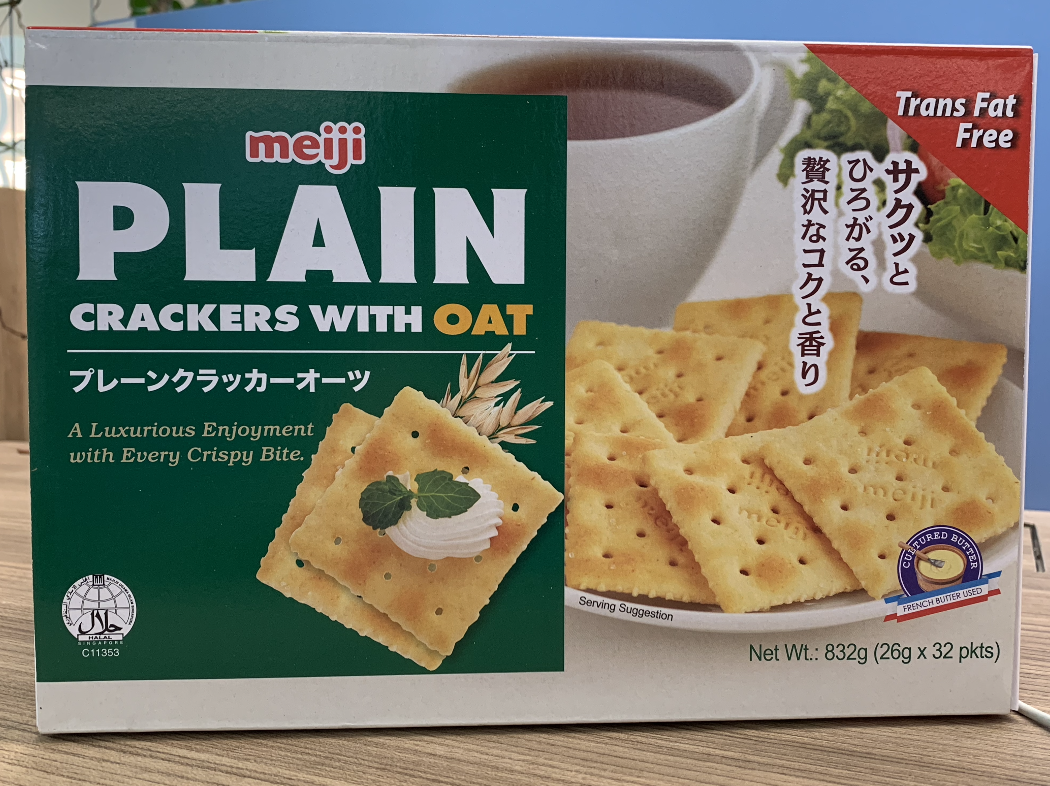crackers_550g: (48, 72, 1011, 664)
